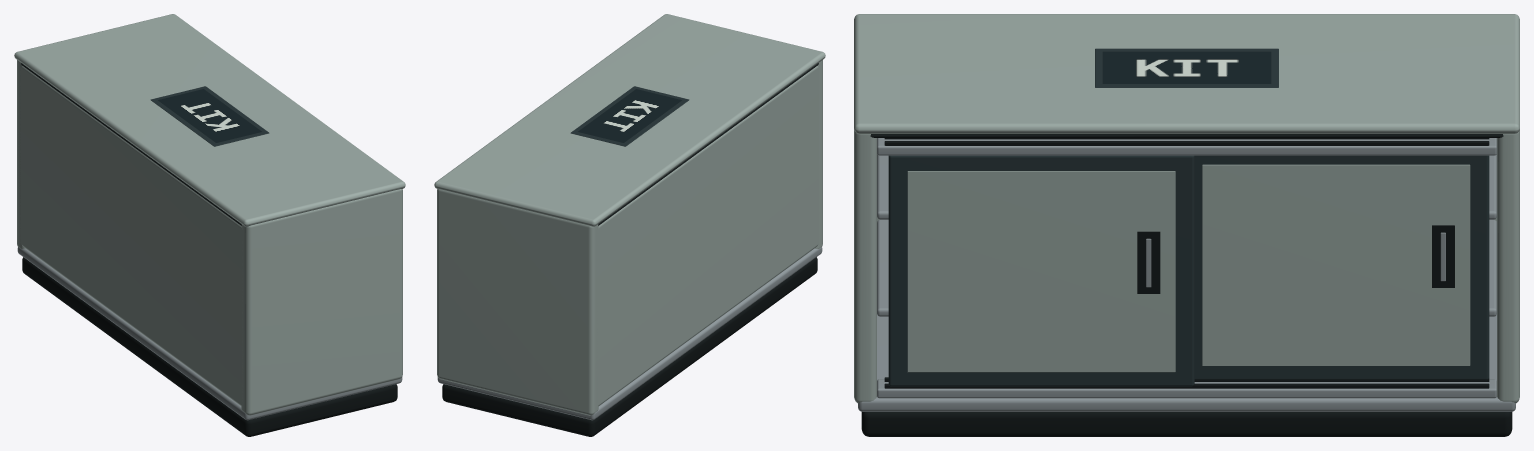
Rendered from locker.glb.
The picture shows the model from 3 angles, left to right: view 1: azimuth 30°, elevation 25°; view 2: azimuth 150°, elevation 25°; view 3: azimuth 270°, elevation 25°; orthographic projection. The views are drawn at different scales.
Parts seen in each view (by area): view 1: locker 01 warm ceramic enamel, locker 04 EPDM gasket, locker 03 satin stainless, locker Locker KIT original label, locker 02 graphite powdercoat; view 2: locker 01 warm ceramic enamel, locker 04 EPDM gasket, locker 03 satin stainless, locker Locker KIT original label, locker 02 graphite powdercoat; view 3: locker 01 warm ceramic enamel, locker 02 graphite powdercoat, locker 04 EPDM gasket, locker 03 satin stainless, locker Locker KIT original label.
Part boxes in pixels (<box>): locker 01 warm ceramic enamel: <box>14,14,405,415</box>; locker 04 EPDM gasket: <box>21,63,397,436</box>; locker 03 satin stainless: <box>17,247,402,420</box>; locker Locker KIT original label: <box>158,89,261,142</box>; locker 02 graphite powdercoat: <box>150,86,269,146</box>; locker 01 warm ceramic enamel: <box>434,14,825,415</box>; locker 04 EPDM gasket: <box>442,63,818,436</box>; locker 03 satin stainless: <box>437,247,822,420</box>; locker Locker KIT original label: <box>578,89,681,142</box>; locker 02 graphite powdercoat: <box>570,86,689,146</box>; locker 01 warm ceramic enamel: <box>854,14,1519,403</box>; locker 02 graphite powdercoat: <box>888,48,1489,386</box>; locker 04 EPDM gasket: <box>861,134,1512,436</box>; locker 03 satin stainless: <box>858,138,1515,411</box>; locker Locker KIT original label: <box>1102,51,1271,83</box>.
Size of the model in its own units: 1.1 by 1.43 by 2.72.
5 materials, 5 textured.
